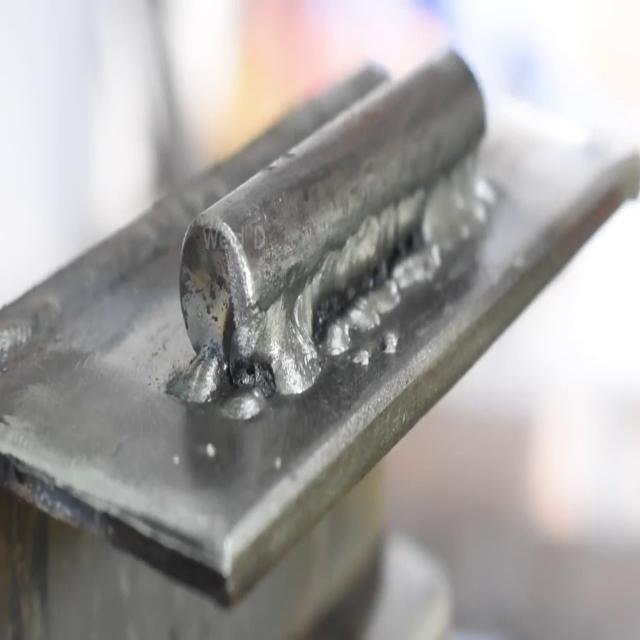Bad Weld: (180, 190, 442, 422)
Defect: (308, 231, 416, 343), (222, 355, 274, 401)
